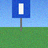sign: (12, 0, 30, 31)
